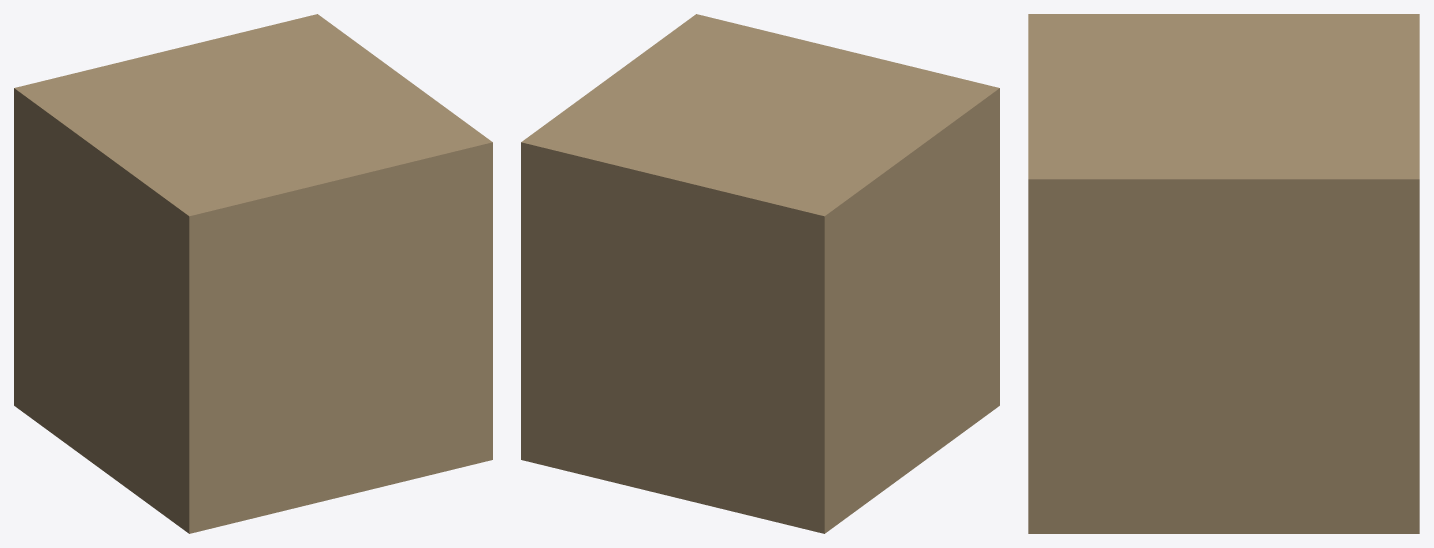
The model's file is 58_engineers_bench.glb.
3 views of the same model, side by side, from view 1: azimuth 30°, elevation 25°; view 2: azimuth 150°, elevation 25°; view 3: azimuth 270°, elevation 25° (orthographic). The views are drawn at different scales.
Parts seen in each view (by area): view 1: Core, Body; view 2: Core; view 3: Core, Body.
Part boxes in pixels (box(x1,y1,x2,y2)): Core: box(14, 14, 492, 533); Body: box(15, 128, 111, 435); Core: box(521, 14, 999, 533); Core: box(1028, 14, 1419, 533); Body: box(1202, 223, 1417, 489).
Bounding box in the file's own units: 1 × 1 × 1.
